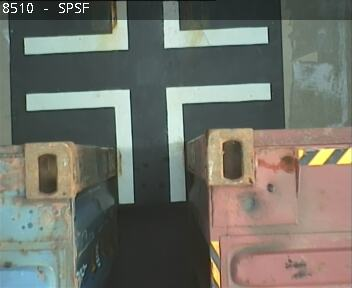groundmarker_1: (25, 82, 270, 201)
